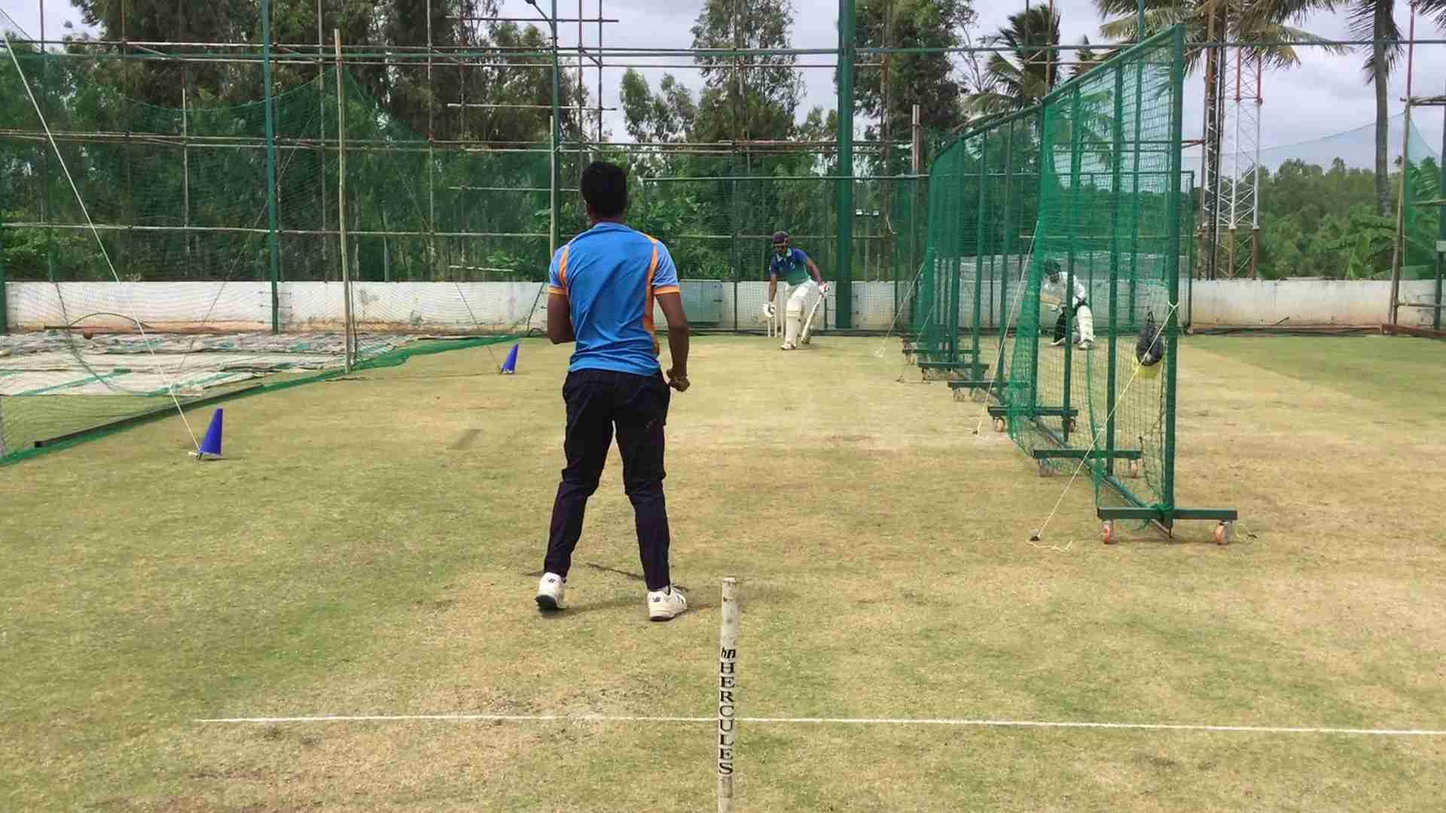batsman: (757, 223, 830, 353)
